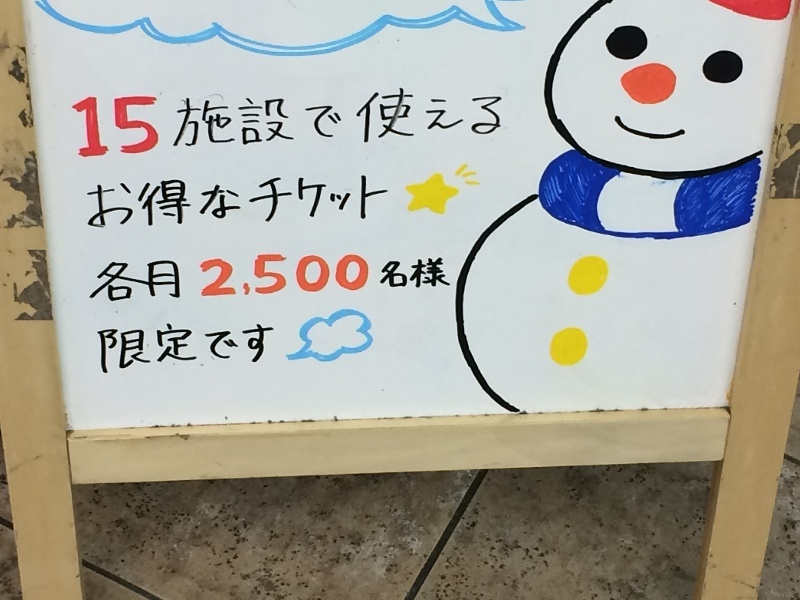text: (81, 84, 96, 162), (97, 84, 112, 162), (113, 84, 128, 162), (129, 84, 144, 162), (145, 84, 160, 162), (161, 84, 176, 162), (177, 84, 192, 162), (193, 84, 208, 162), (209, 84, 224, 162), (225, 84, 240, 162), (241, 84, 256, 162), (257, 84, 272, 162), (273, 84, 288, 162), (289, 84, 304, 162), (305, 84, 320, 162), (321, 84, 336, 162), (337, 84, 352, 162), (353, 84, 368, 162), (369, 84, 384, 162), (385, 84, 400, 162), (401, 84, 416, 162), (417, 84, 432, 162), (433, 84, 448, 162), (449, 84, 464, 162), (465, 84, 480, 162), (481, 84, 496, 162), (97, 173, 112, 234), (113, 173, 128, 234), (129, 173, 144, 234), (145, 173, 160, 234), (161, 173, 176, 234), (177, 173, 192, 234), (193, 173, 208, 234), (209, 173, 224, 234), (225, 173, 240, 234), (241, 173, 256, 234), (257, 173, 272, 234), (273, 173, 288, 234), (289, 173, 304, 234), (305, 173, 320, 234), (321, 173, 336, 234), (337, 173, 352, 234), (353, 173, 368, 234), (369, 173, 384, 234), (97, 252, 112, 310), (113, 252, 128, 310), (129, 252, 144, 310), (145, 252, 160, 310), (161, 252, 176, 310), (177, 252, 192, 310), (193, 252, 208, 310), (209, 252, 224, 310), (225, 252, 240, 310), (241, 252, 256, 310), (257, 252, 272, 310), (273, 252, 288, 310), (289, 252, 304, 310), (305, 252, 320, 310), (321, 252, 336, 310), (337, 252, 352, 310), (353, 252, 368, 310), (369, 252, 384, 310), (385, 252, 400, 310), (401, 252, 416, 310), (417, 252, 432, 310), (433, 252, 448, 310), (97, 323, 112, 379), (113, 323, 128, 379), (129, 323, 144, 379), (145, 323, 160, 379), (161, 323, 176, 379), (177, 323, 192, 379), (193, 323, 208, 379), (209, 323, 224, 379), (225, 323, 240, 379), (241, 323, 256, 379), (257, 323, 272, 379), (70, 84, 80, 162), (85, 173, 96, 234), (497, 84, 504, 162), (88, 252, 96, 310), (385, 173, 390, 234), (449, 252, 454, 310), (273, 323, 277, 379)
